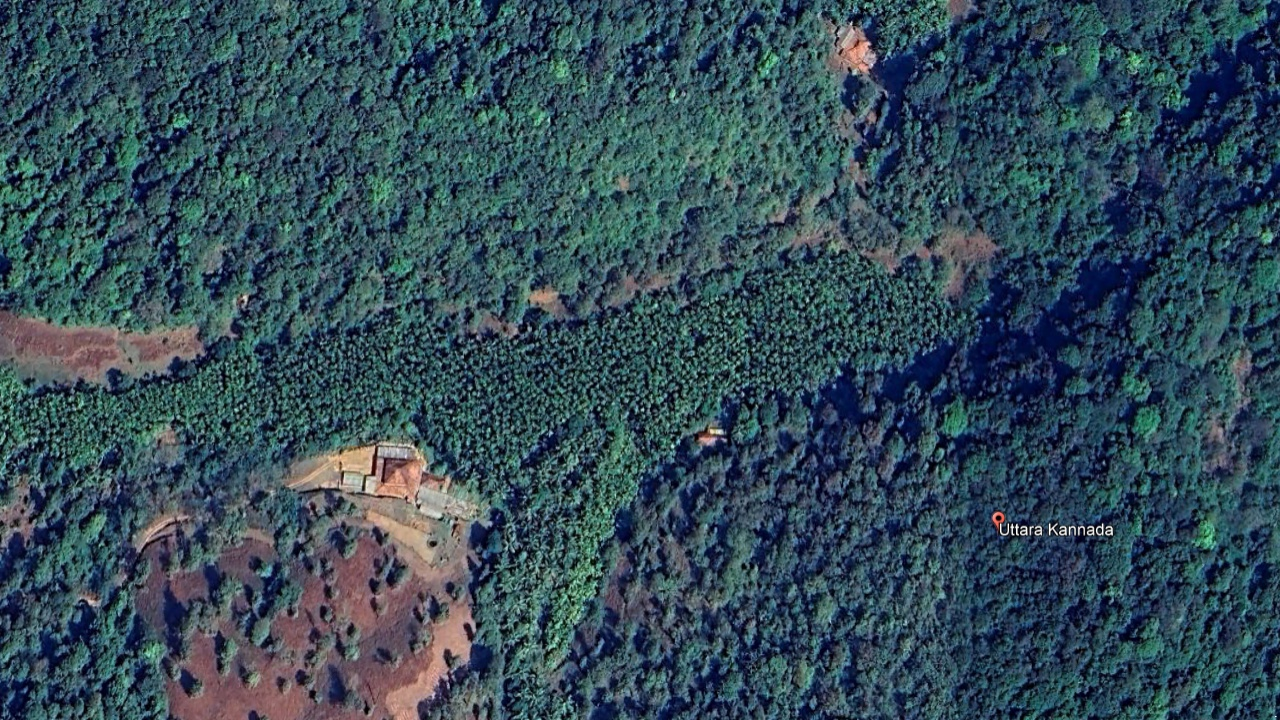arecanut: (10, 247, 971, 646)
